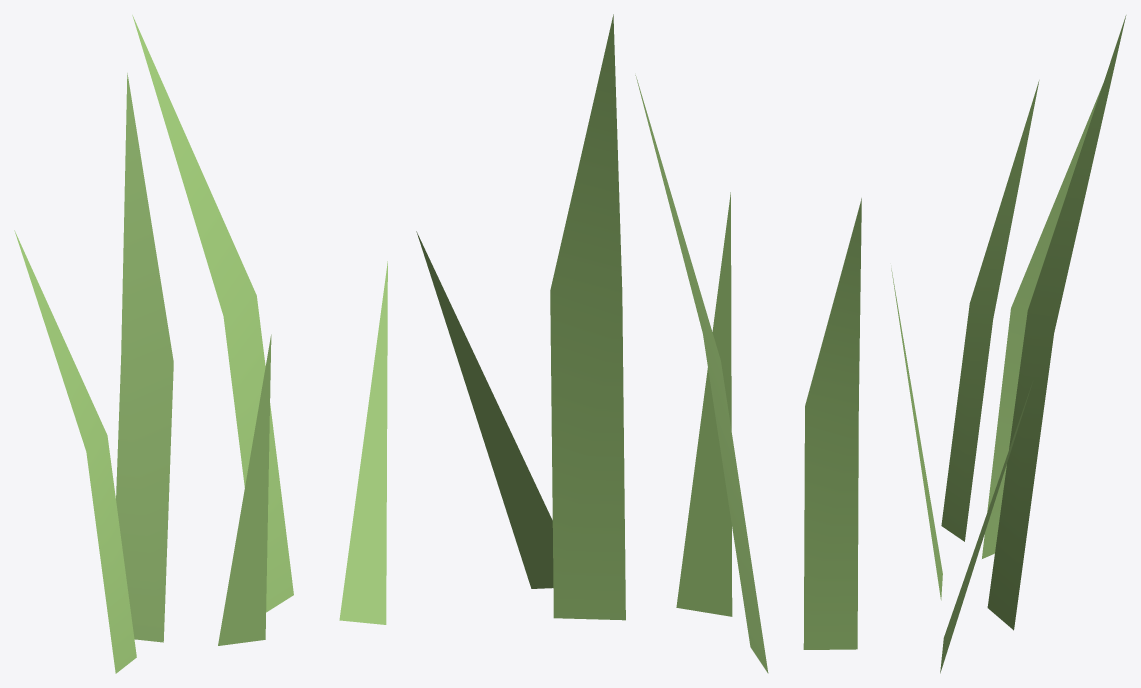
Rendered from Grass_b_TwoS_03.fbx.
3 views of the same model, side by side, from view 1: azimuth 30°, elevation 25°; view 2: azimuth 150°, elevation 25°; view 3: azimuth 270°, elevation 25° (orthographic). The views are drawn at different scales.
Parts seen in each view (by area): view 1: Grass_b_TwoS_03; view 2: Grass_b_TwoS_03; view 3: Grass_b_TwoS_03.
Part boxes in pixels (left/top/right/bottom): Grass_b_TwoS_03: left=14, top=15, right=387, bottom=673; Grass_b_TwoS_03: left=416, top=14, right=861, bottom=673; Grass_b_TwoS_03: left=891, top=15, right=1126, bottom=673.
Bounding box in the file's own units: 31.88 × 47.82 × 17.59.
